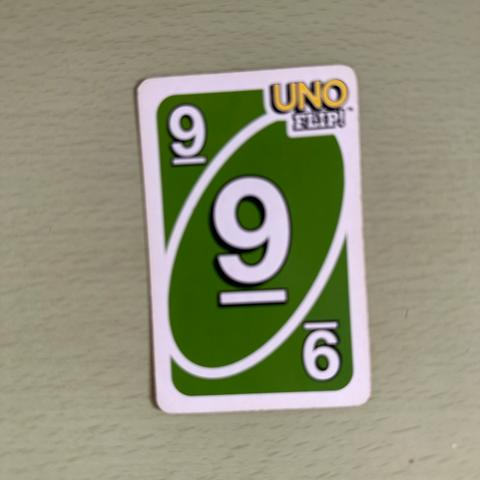lgreen-9: (151, 88, 224, 180)
